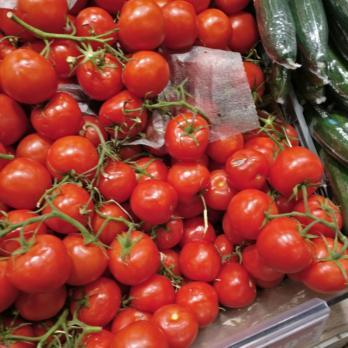Tomato: (0, 1, 254, 311), (246, 127, 323, 291), (99, 309, 213, 348), (0, 313, 102, 348)
